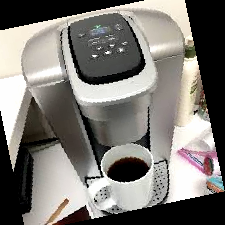10oz: (104, 50, 113, 56)
12oz: (117, 48, 125, 54)
4oz: (94, 45, 103, 51)
6oz: (107, 43, 116, 49)
8oz: (91, 53, 100, 59)
